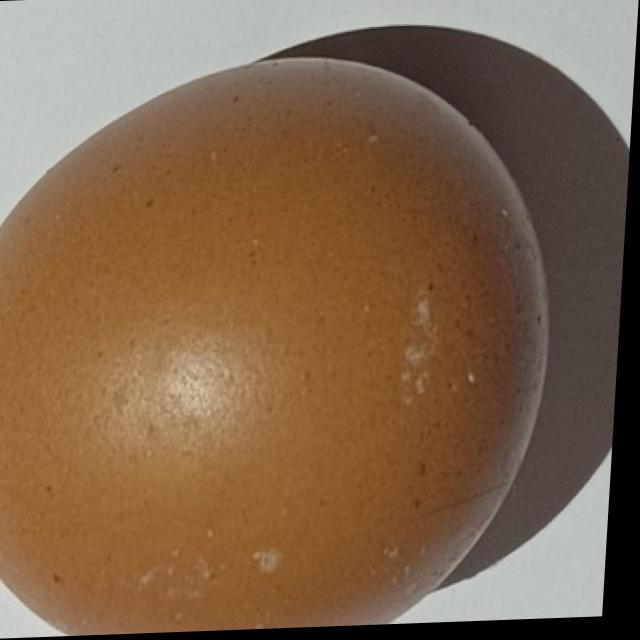unfresh: (0, 53, 562, 640)
